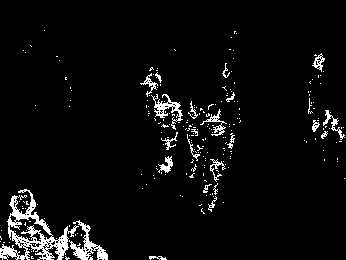person: (201, 102, 235, 213), (8, 187, 55, 260), (153, 95, 184, 176), (183, 97, 211, 184), (143, 66, 162, 120)
